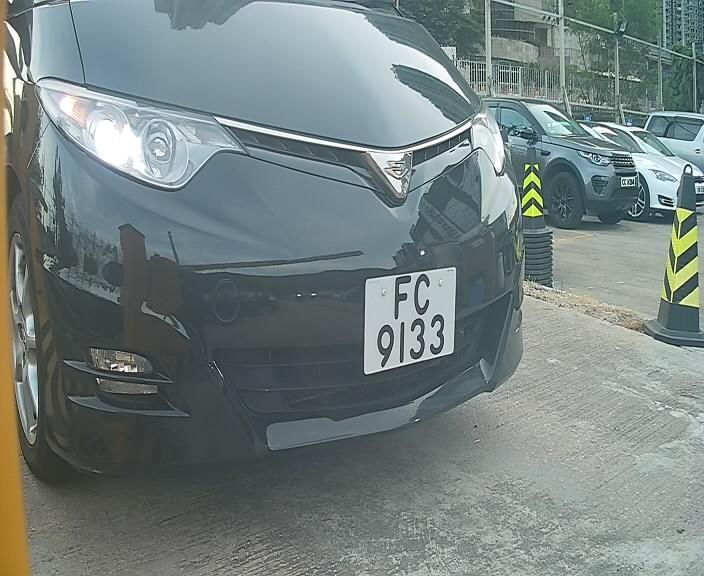privatecar: (13, 16, 551, 463)
